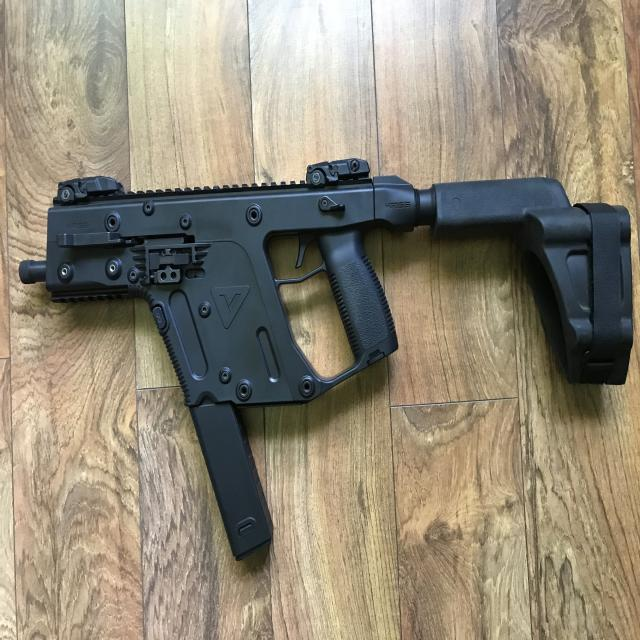SMG: (34, 160, 635, 564)
